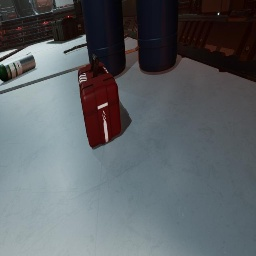0: (0, 54, 36, 82), (56, 7, 60, 9)
FirstAidBox ,: (78, 53, 121, 148)
NitrogenTank ,: (59, 4, 70, 8)
